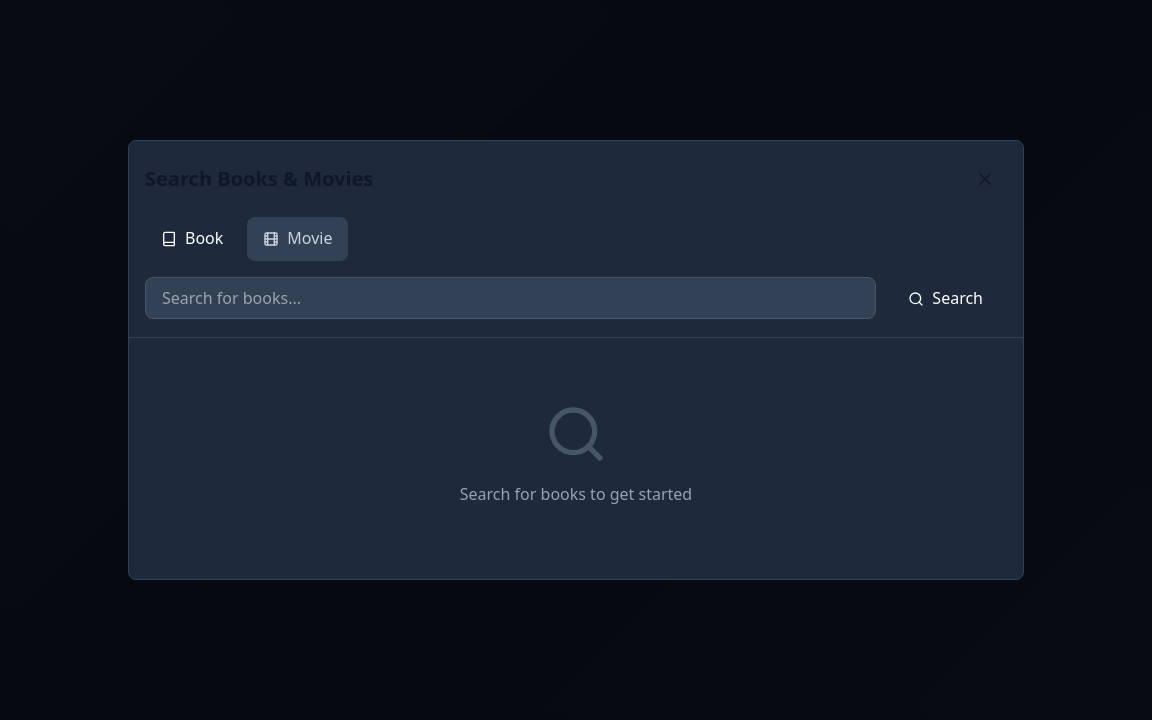
it: SearchModal › book search › should show "no results" message when search returns empty array
The width and height of the screenshot is (1152, 720).
Step 1. Click the field with placeholder "Search for books..." → [511, 298], box top-left (145, 277), bottom-right (876, 319)
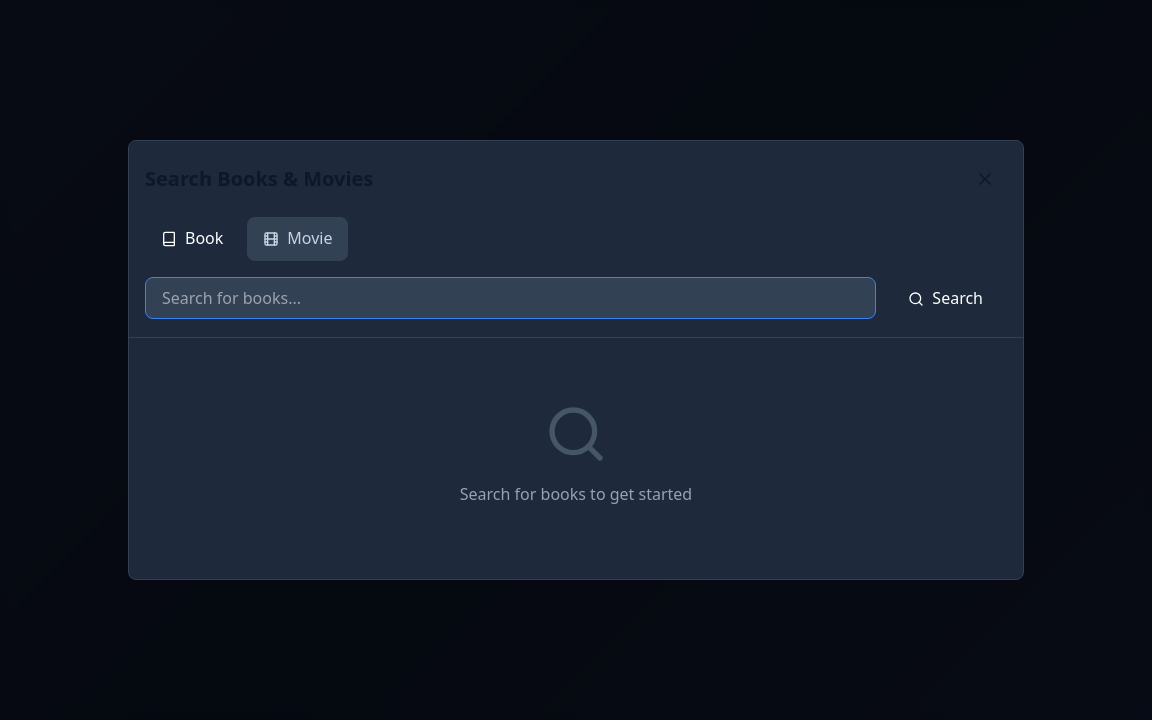
Step 2. Type keys "nonexistent"
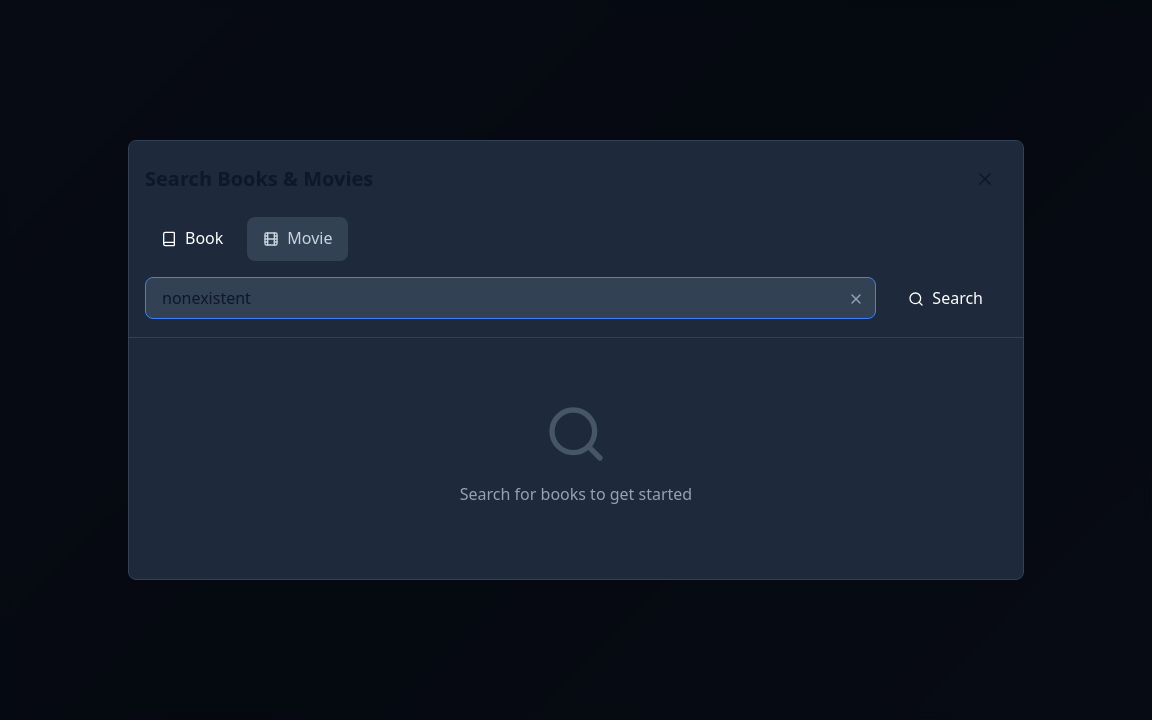
Step 3. Click the button "Search" → [946, 299], box top-left (884, 277), bottom-right (1007, 321)
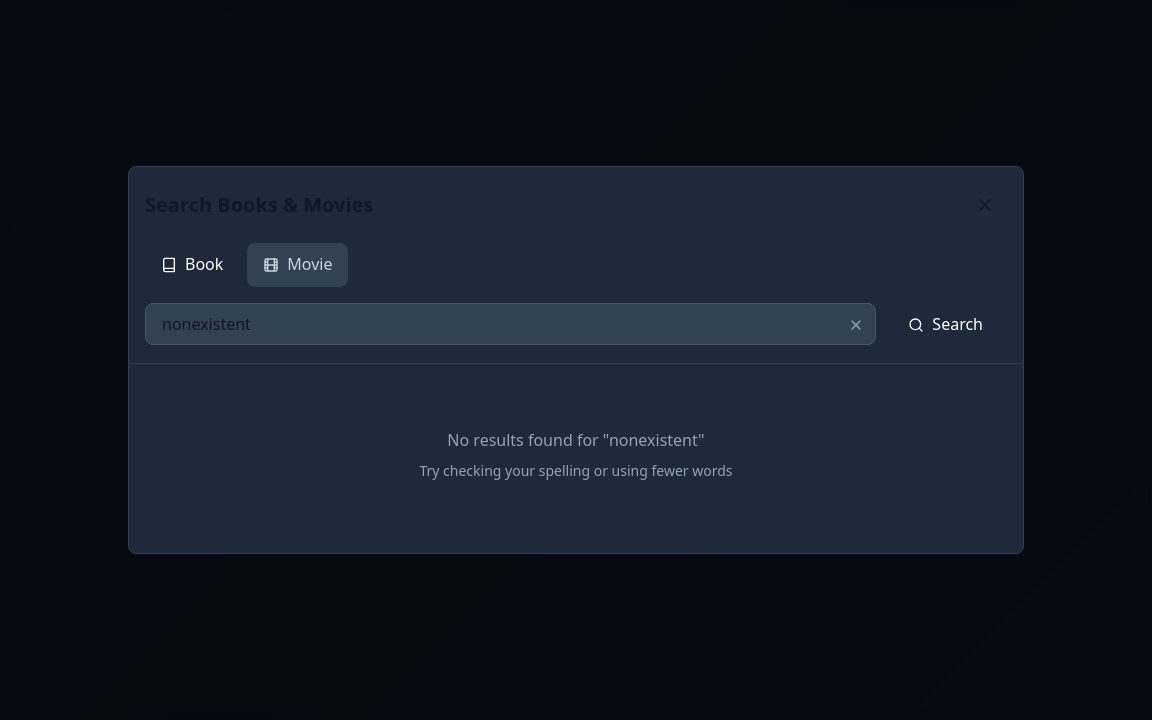
Now the text "No results found for \"nonexistent\"" is shown, box top-left (447, 429), bottom-right (705, 451)
